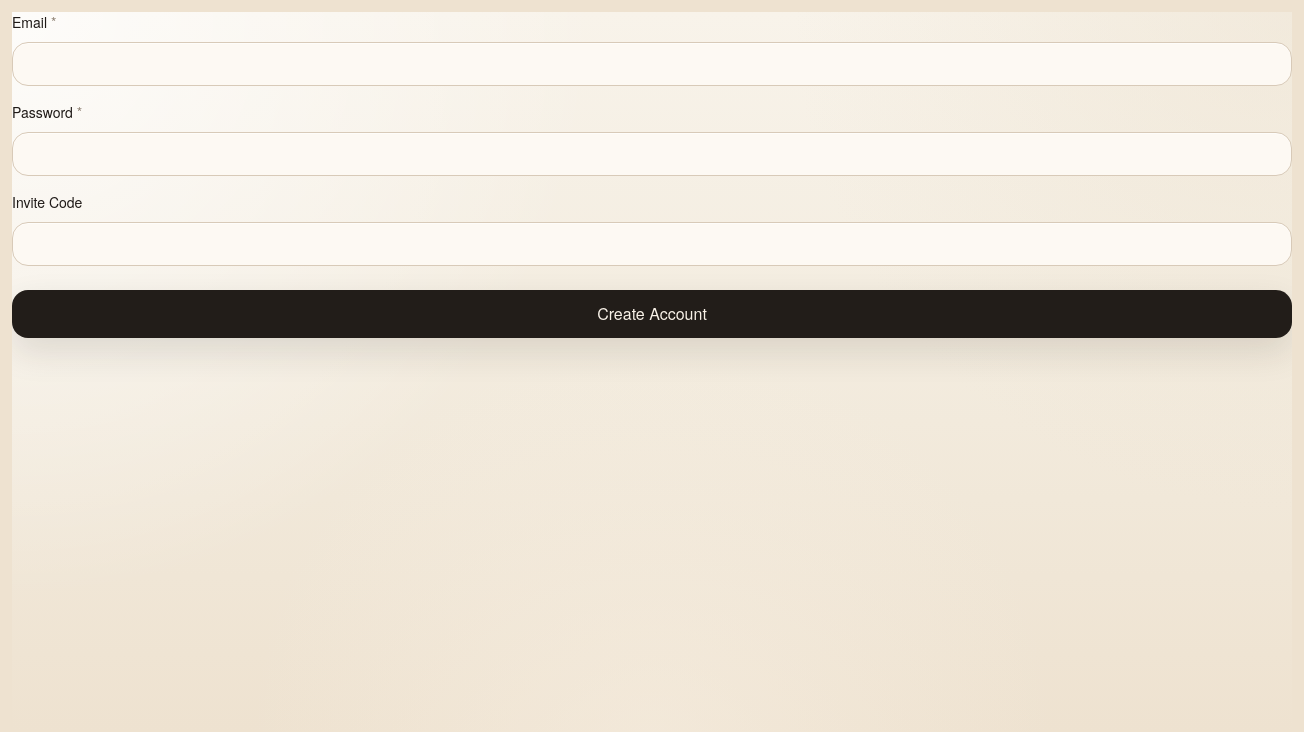
Test: disables submit while the invite signup request is pending
The image size is (1304, 732).
Type "bot@example.com" into the field labelled "Email" at (652, 64), box [12,42,1292,86]
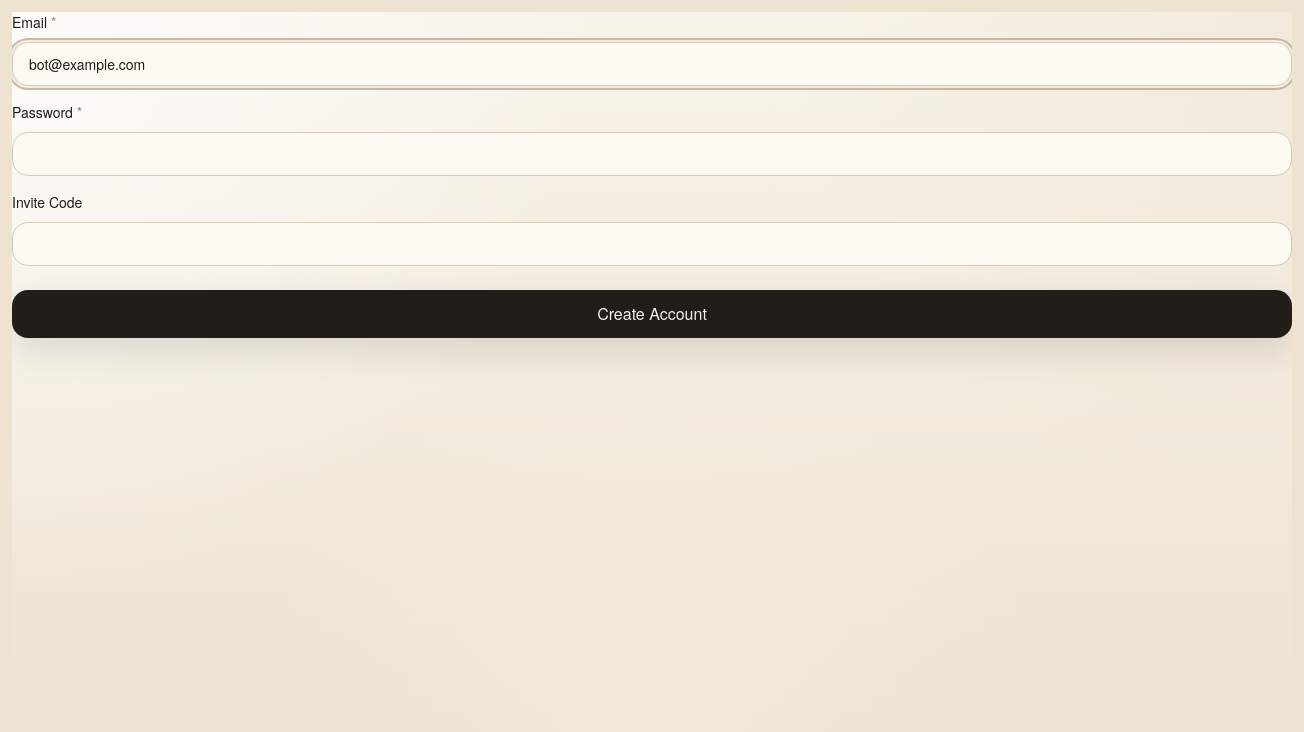
Type "VALID-CODE" into the field labelled "Invite Code" at (652, 244), box [12,222,1292,266]
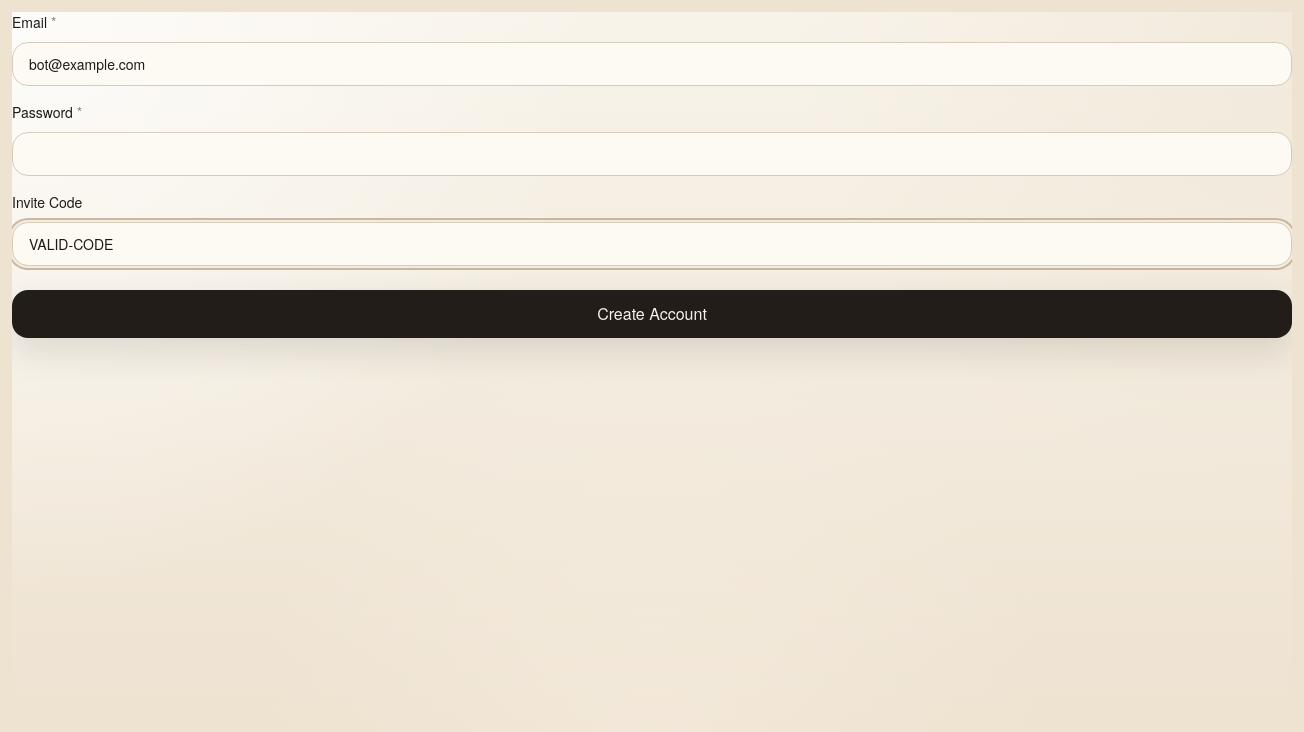
Type "password123" into the password field labelled "Password" at (652, 154), box [12,132,1292,176]
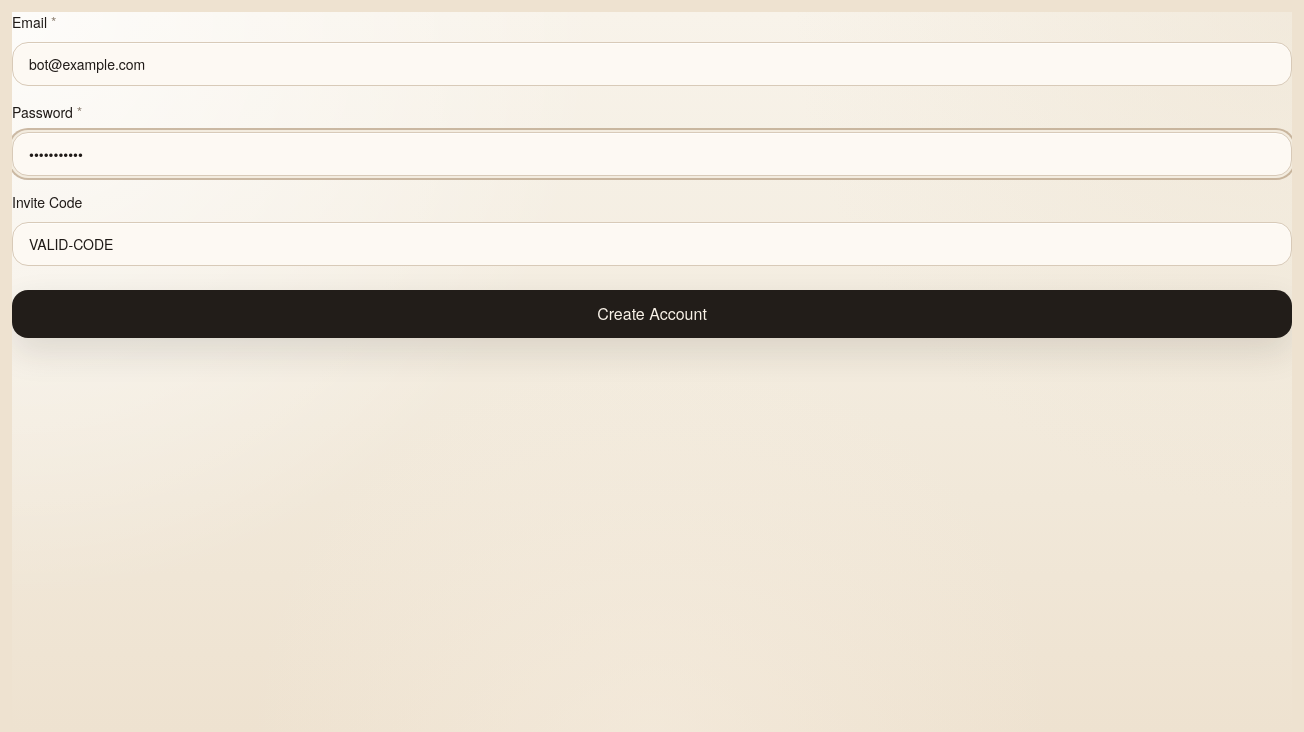
Click the button "Create Account" at (652, 314), box [12,290,1292,338]
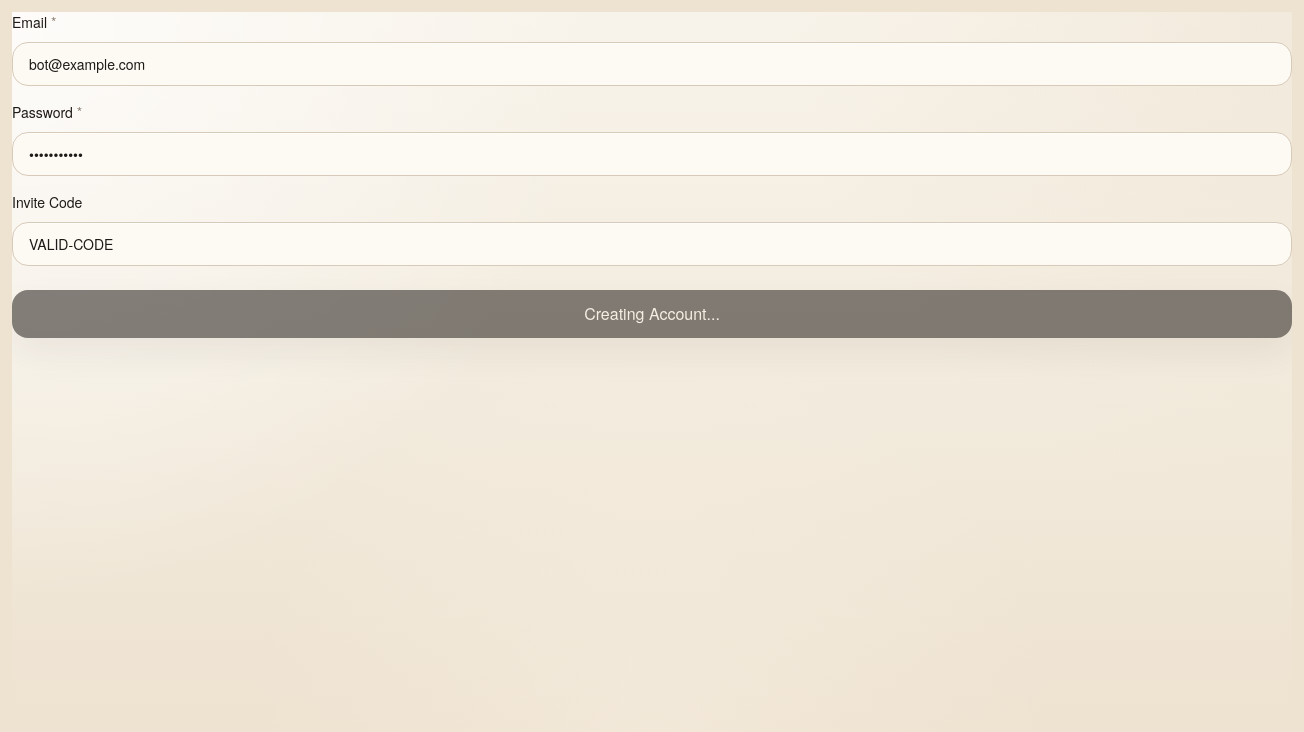
Expected: the button "Creating Account..." is disabled, [12,290,1292,338]
